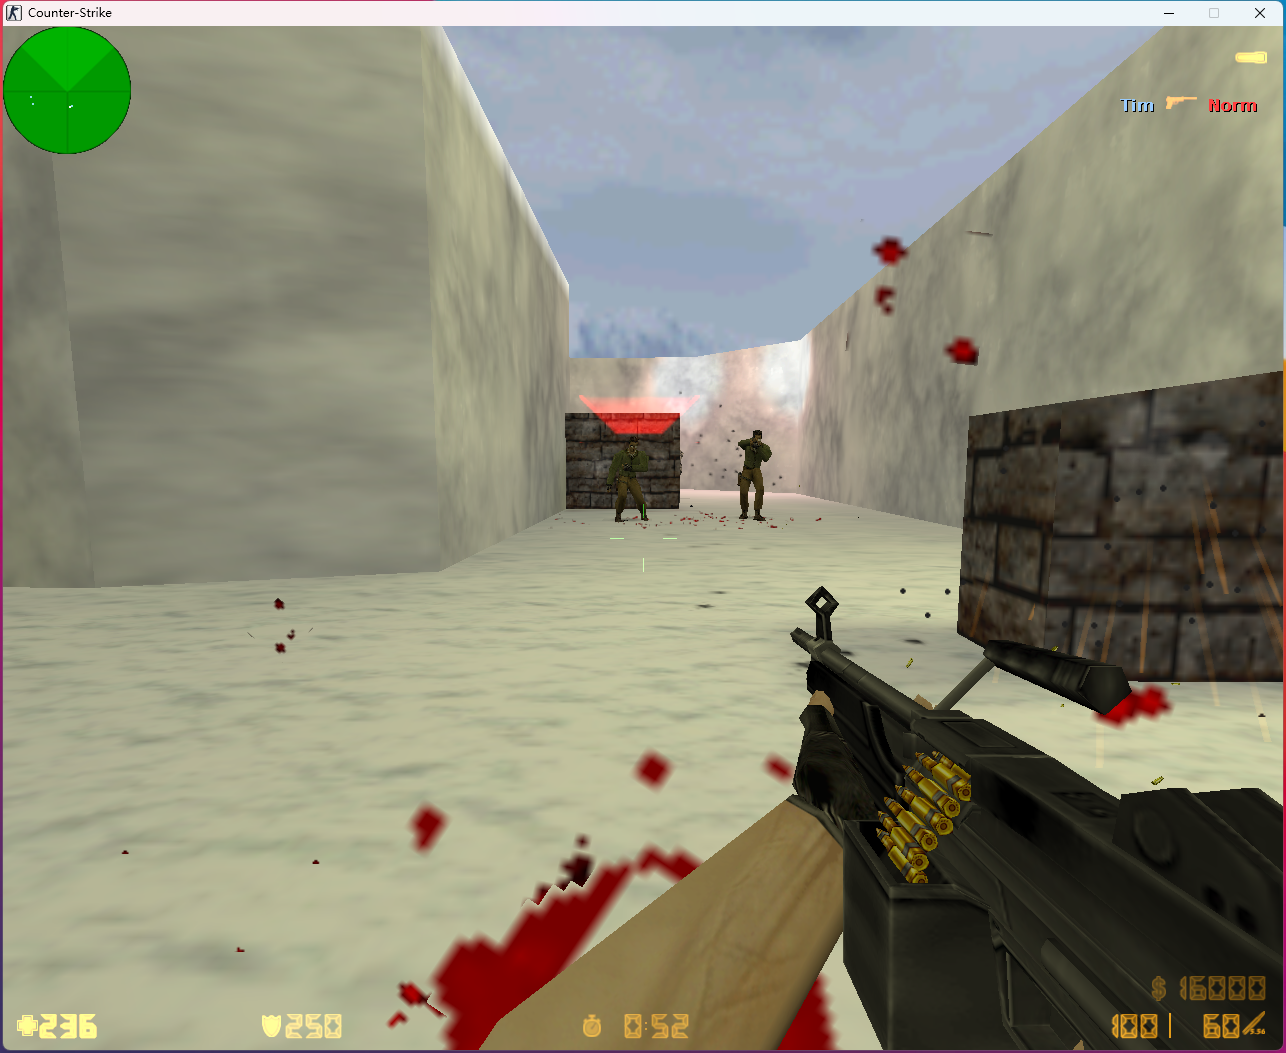T: (605, 439, 652, 522), (737, 430, 772, 522)
